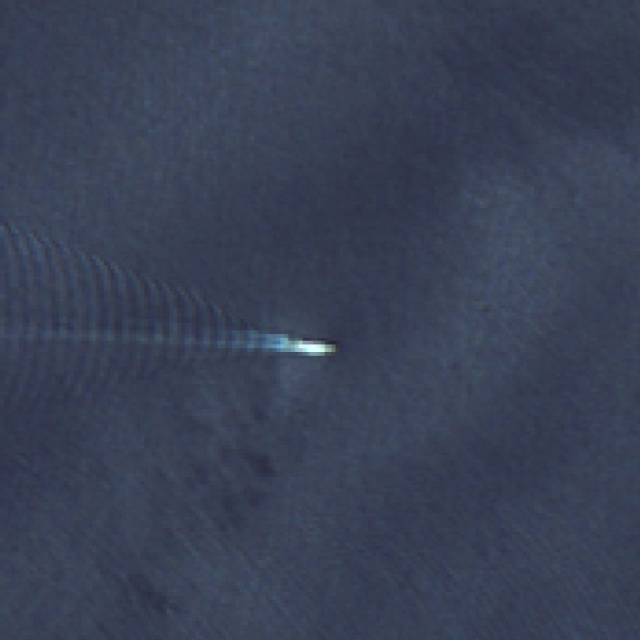wake: (95, 268, 337, 406)
